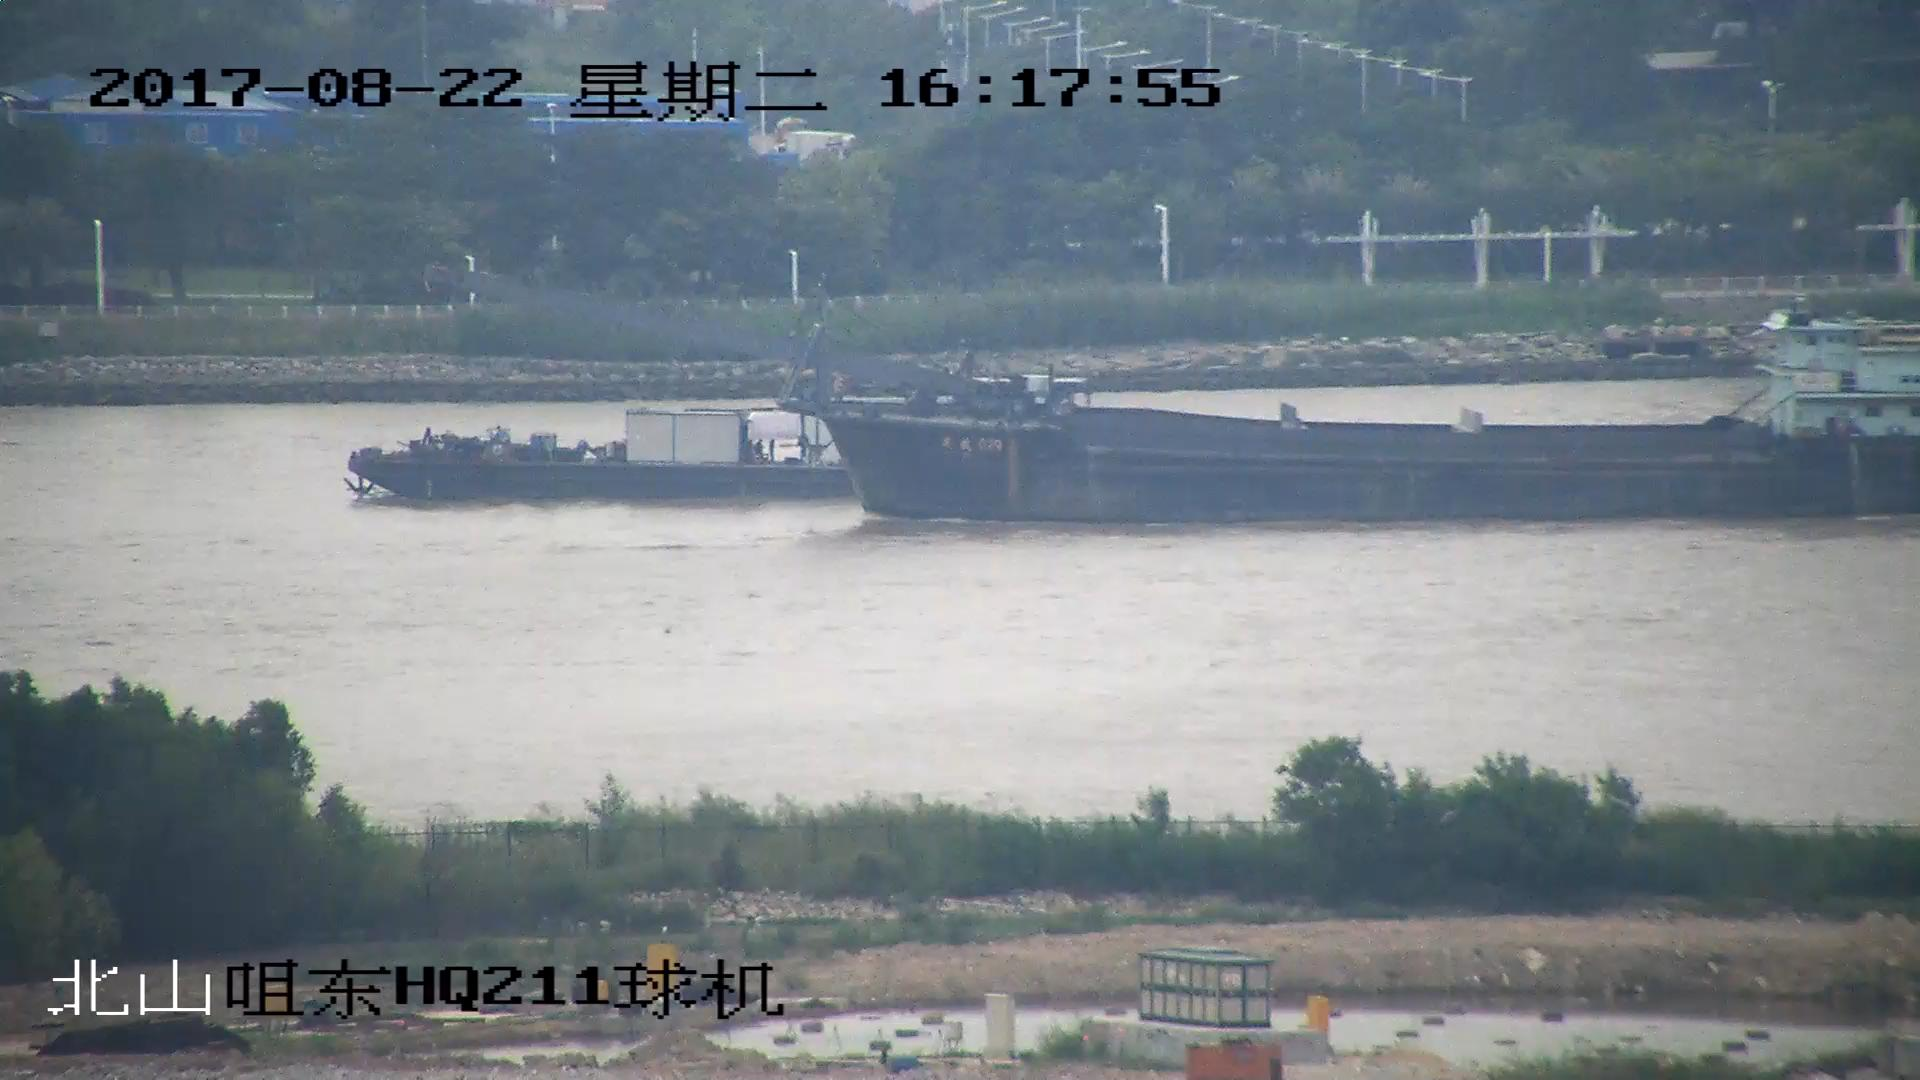bulk cargo carrier: (427, 258, 1920, 525), (346, 395, 891, 503)
